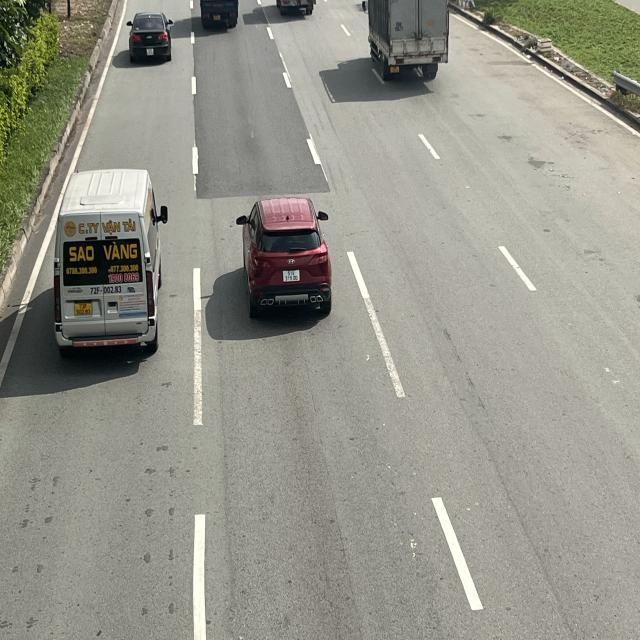car: (237, 197, 333, 315), (127, 13, 175, 59)
truck: (361, 0, 450, 81)
van: (53, 167, 168, 360)
